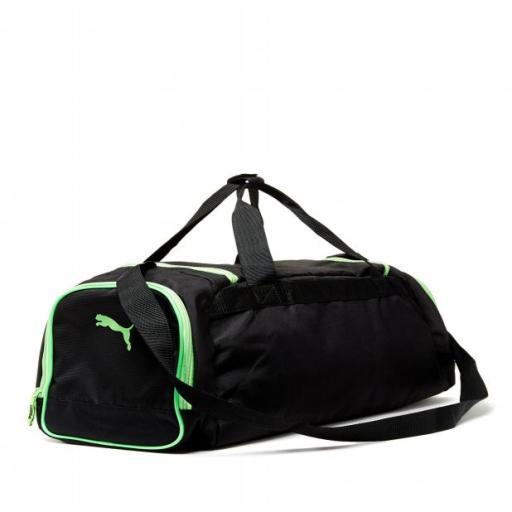Puma: (93, 309, 140, 354)
